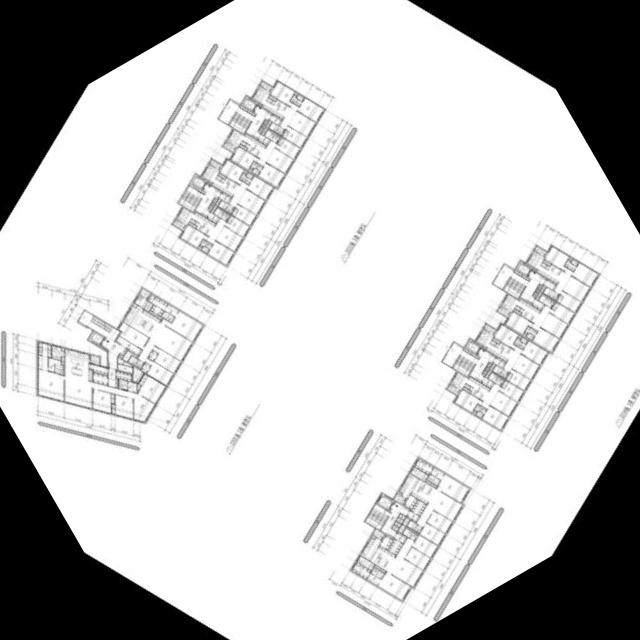background: (0, 0, 640, 640)
space_balconi: (139, 288, 151, 299), (91, 354, 100, 365)
space_bedroom: (161, 310, 204, 341), (437, 473, 470, 502), (378, 571, 411, 600), (138, 372, 167, 403), (118, 321, 149, 349), (38, 368, 64, 401), (153, 345, 182, 373), (146, 357, 174, 385), (533, 327, 560, 352), (572, 262, 599, 287), (521, 340, 548, 365), (482, 405, 509, 430), (208, 240, 235, 265), (258, 162, 285, 187), (298, 97, 325, 122), (247, 175, 274, 200), (454, 389, 483, 412), (494, 323, 519, 349), (220, 158, 245, 184), (505, 311, 533, 334), (180, 224, 208, 247), (231, 146, 259, 169), (545, 245, 569, 271), (271, 80, 295, 106), (405, 547, 431, 570), (412, 535, 438, 558), (420, 522, 446, 545), (427, 510, 453, 533), (275, 137, 301, 159), (93, 388, 115, 413), (557, 290, 582, 312), (506, 368, 531, 390), (499, 380, 524, 402), (225, 215, 250, 237), (282, 126, 308, 147), (112, 394, 133, 419), (550, 302, 575, 323), (232, 204, 257, 225), (141, 362, 151, 372), (148, 350, 158, 360)
space_dressroom: (351, 562, 371, 579), (414, 457, 434, 474), (148, 294, 168, 310), (38, 341, 52, 357), (151, 304, 164, 316)
space_elevator: (377, 493, 395, 510), (516, 261, 533, 276), (191, 174, 208, 189), (89, 331, 105, 346), (466, 339, 482, 354), (242, 96, 258, 111)
space_elevator_hall: (78, 310, 127, 369), (493, 264, 546, 303), (219, 99, 272, 138), (443, 342, 495, 381), (187, 183, 221, 216), (381, 501, 410, 537)
space_front: (116, 336, 142, 355), (411, 499, 427, 515), (388, 538, 403, 555), (94, 372, 108, 385), (116, 370, 132, 381), (109, 368, 118, 387), (532, 298, 545, 310), (219, 191, 232, 203), (395, 531, 407, 543), (270, 113, 282, 125), (544, 278, 557, 289), (207, 212, 220, 223), (494, 356, 506, 367), (482, 377, 494, 388), (407, 511, 419, 522), (258, 134, 270, 145)
space_kitchen: (252, 85, 291, 118), (527, 250, 565, 283), (476, 328, 514, 361), (202, 163, 240, 196), (123, 305, 161, 337), (176, 206, 216, 236), (361, 537, 396, 571), (399, 473, 437, 504), (227, 128, 266, 158), (501, 293, 541, 322), (450, 371, 490, 400), (65, 348, 93, 381), (380, 535, 393, 549), (405, 495, 418, 509)
space_living_room: (65, 375, 156, 422), (138, 322, 193, 362), (388, 537, 424, 587), (417, 489, 463, 526), (532, 304, 568, 338), (554, 268, 591, 301), (503, 346, 540, 379), (481, 383, 518, 416), (207, 218, 244, 251), (229, 181, 266, 214), (258, 140, 294, 173), (280, 103, 316, 136)
space_other: (134, 294, 153, 311), (357, 555, 375, 570), (410, 466, 428, 481), (90, 363, 108, 375), (52, 344, 65, 360), (123, 350, 138, 361), (464, 348, 479, 358), (515, 270, 530, 280), (190, 183, 205, 193), (118, 363, 133, 373), (241, 105, 255, 115), (134, 366, 143, 381), (118, 357, 133, 366), (150, 310, 162, 318), (375, 565, 386, 572), (426, 480, 437, 487), (403, 517, 410, 525), (399, 525, 405, 533), (189, 222, 197, 228), (211, 205, 217, 213), (540, 285, 546, 292), (392, 525, 399, 531), (485, 370, 491, 377), (399, 513, 406, 519), (536, 292, 542, 299), (215, 198, 221, 205), (266, 120, 272, 127), (463, 387, 471, 392), (514, 309, 522, 314), (269, 95, 277, 100), (262, 127, 267, 135), (397, 517, 403, 523), (395, 521, 401, 527), (490, 363, 495, 370), (544, 260, 551, 265), (493, 338, 500, 343), (219, 173, 226, 178), (240, 144, 247, 149), (101, 346, 108, 351), (62, 356, 65, 365), (132, 302, 137, 307), (138, 383, 141, 391), (264, 119, 268, 124), (119, 353, 123, 358), (538, 284, 542, 288), (485, 366, 489, 370), (518, 334, 522, 338), (533, 292, 537, 296), (398, 491, 402, 495), (536, 288, 540, 292), (569, 256, 573, 260), (483, 370, 487, 374), (487, 362, 491, 366), (259, 127, 263, 131), (244, 169, 248, 173), (213, 197, 217, 201), (208, 205, 212, 209), (211, 201, 215, 205), (62, 347, 65, 351), (523, 333, 527, 336), (472, 411, 476, 414), (198, 246, 202, 249), (295, 91, 298, 95), (262, 123, 265, 127), (482, 346, 485, 349), (249, 168, 252, 171), (533, 268, 535, 271), (208, 181, 210, 184), (259, 103, 261, 106)
space_outdoor_room: (447, 384, 460, 395), (534, 245, 547, 256), (484, 323, 497, 334), (224, 141, 237, 152), (173, 219, 186, 230), (260, 80, 273, 91), (394, 493, 406, 504), (373, 528, 385, 539), (498, 306, 511, 316), (210, 159, 222, 169)
space_staircase: (366, 503, 390, 529), (504, 277, 526, 298), (453, 355, 475, 376), (179, 190, 201, 211), (230, 112, 251, 133), (91, 316, 113, 332)
space_toilet: (49, 357, 64, 374), (488, 372, 504, 385), (543, 287, 559, 300), (407, 520, 423, 533), (269, 122, 285, 135), (214, 207, 230, 220), (129, 355, 144, 368), (539, 294, 554, 307), (403, 527, 418, 540), (493, 365, 508, 378), (219, 200, 234, 213), (265, 129, 280, 142), (165, 304, 179, 316), (367, 573, 381, 585), (431, 467, 445, 479), (38, 354, 48, 370), (514, 337, 526, 349), (565, 259, 576, 271), (240, 172, 251, 184), (291, 94, 302, 106), (250, 161, 263, 171), (200, 239, 213, 249), (474, 404, 487, 413), (525, 326, 537, 335), (128, 381, 137, 392), (161, 310, 170, 319), (167, 313, 175, 322), (376, 570, 385, 578), (427, 474, 435, 482), (371, 567, 379, 575), (432, 477, 440, 485), (119, 383, 128, 390), (520, 337, 528, 344), (571, 259, 579, 266), (476, 410, 484, 417), (202, 245, 210, 252), (246, 172, 254, 179), (119, 379, 128, 385), (527, 332, 534, 339), (297, 94, 304, 101), (253, 168, 260, 174)
